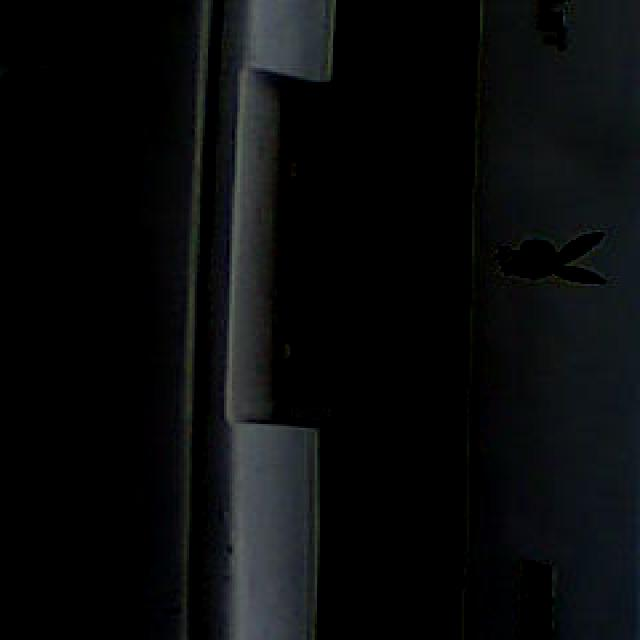placa: (276, 102, 473, 410)
